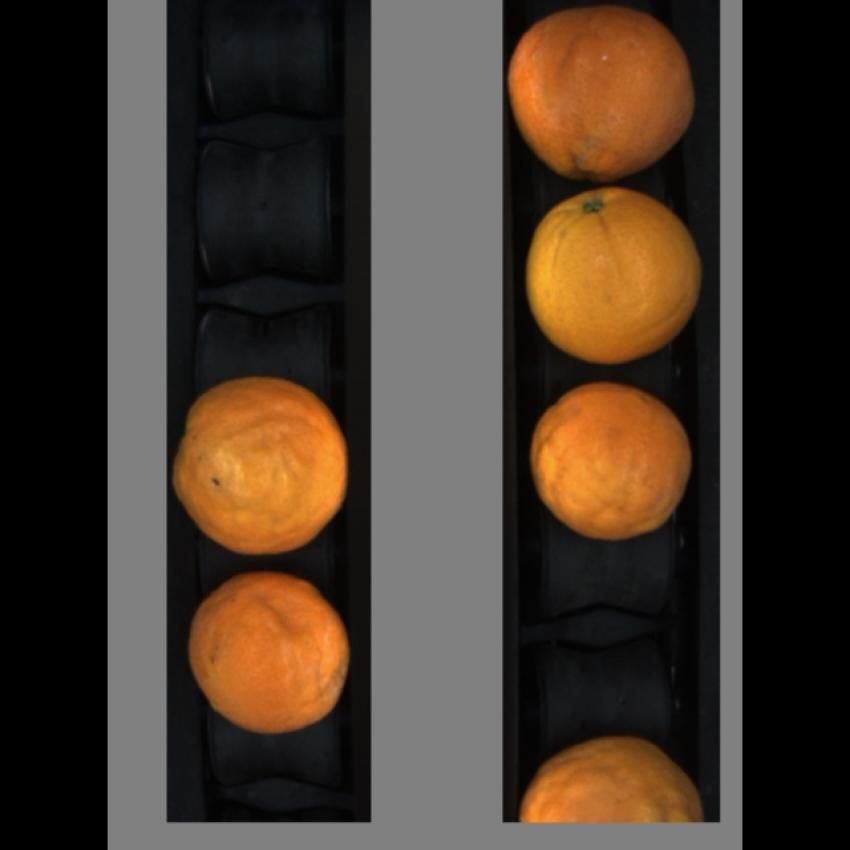Buen estado: (519, 188, 716, 367)
Mal estado: (506, 1, 706, 184), (169, 374, 360, 558), (523, 376, 700, 546), (186, 566, 351, 736), (514, 734, 720, 822)
